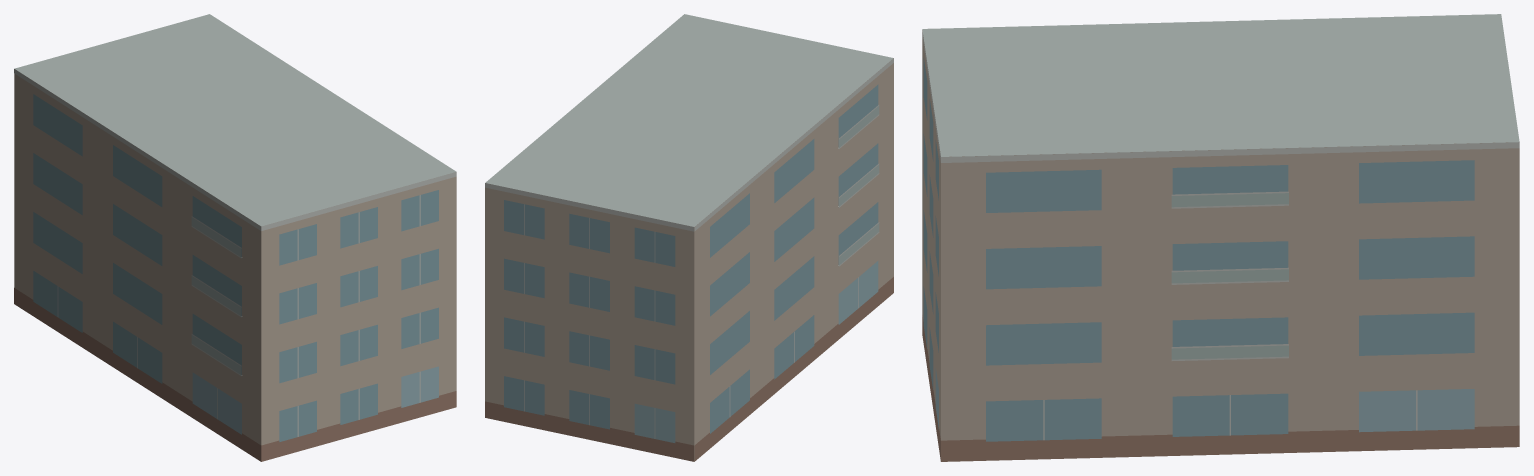
File: residential-a49c3e44-3eb1-4659-89d5-1f90bfa402a6.glb
The picture shows the model from 3 angles, left to right: view 1: azimuth 30°, elevation 25°; view 2: azimuth 150°, elevation 25°; view 3: azimuth 270°, elevation 25°; orthographic projection. The views are drawn at different scales.
Visible parts, largest first — view 1: residential-a49c3e44-3eb1-4659-89d5-1f90bfa402a6.tmp; view 2: residential-a49c3e44-3eb1-4659-89d5-1f90bfa402a6.tmp; view 3: residential-a49c3e44-3eb1-4659-89d5-1f90bfa402a6.tmp.
Part boxes in pixels (<box>): residential-a49c3e44-3eb1-4659-89d5-1f90bfa402a6.tmp: <box>14,14,456,461</box>; residential-a49c3e44-3eb1-4659-89d5-1f90bfa402a6.tmp: <box>485,14,893,461</box>; residential-a49c3e44-3eb1-4659-89d5-1f90bfa402a6.tmp: <box>922,14,1519,461</box>.
Bounding box in the file's own units: 12.28 × 12.2 × 21.67.
